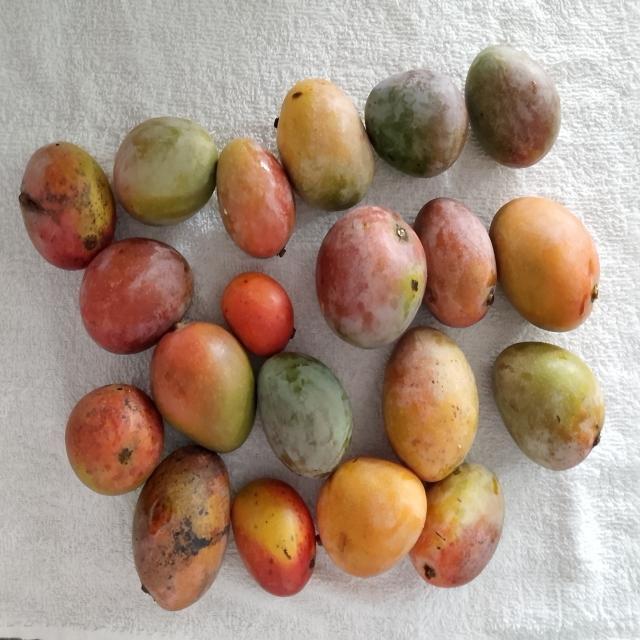mango: (133, 446, 230, 610), (316, 206, 427, 348), (383, 327, 478, 481), (489, 198, 599, 331), (492, 343, 605, 470), (150, 322, 255, 452), (80, 238, 193, 354), (317, 458, 427, 577), (277, 79, 374, 210), (19, 142, 115, 269), (465, 45, 561, 167), (258, 353, 352, 477), (410, 464, 504, 587), (114, 117, 218, 225), (365, 70, 468, 177), (65, 384, 163, 495), (414, 198, 496, 327), (232, 479, 316, 596), (217, 138, 295, 258)
